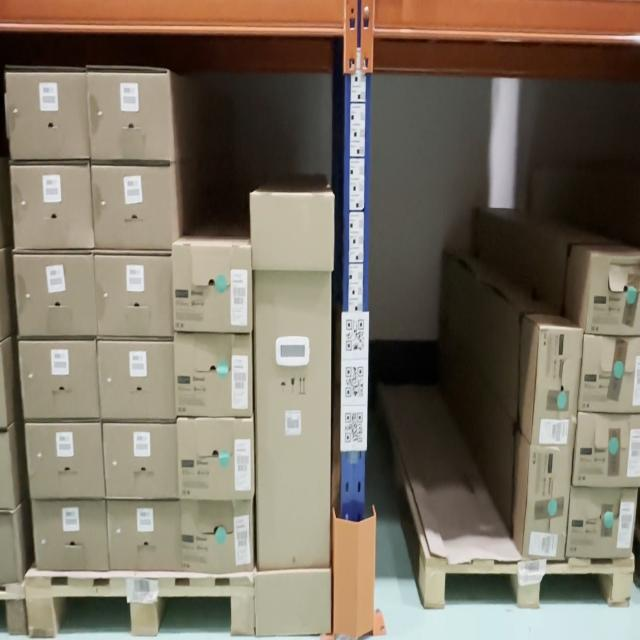box: (252, 192, 330, 566), (88, 73, 172, 158), (172, 244, 250, 330), (11, 71, 87, 158), (531, 327, 583, 449), (15, 164, 90, 248), (18, 253, 93, 336), (97, 258, 172, 339), (96, 170, 171, 250), (177, 337, 251, 416), (178, 422, 252, 497), (100, 344, 175, 418), (522, 450, 571, 563), (24, 342, 96, 418), (106, 424, 178, 496), (566, 487, 637, 557), (32, 423, 100, 496), (578, 335, 640, 415), (181, 503, 253, 571), (573, 414, 640, 485), (37, 501, 105, 569), (110, 504, 179, 570), (586, 251, 640, 334)
